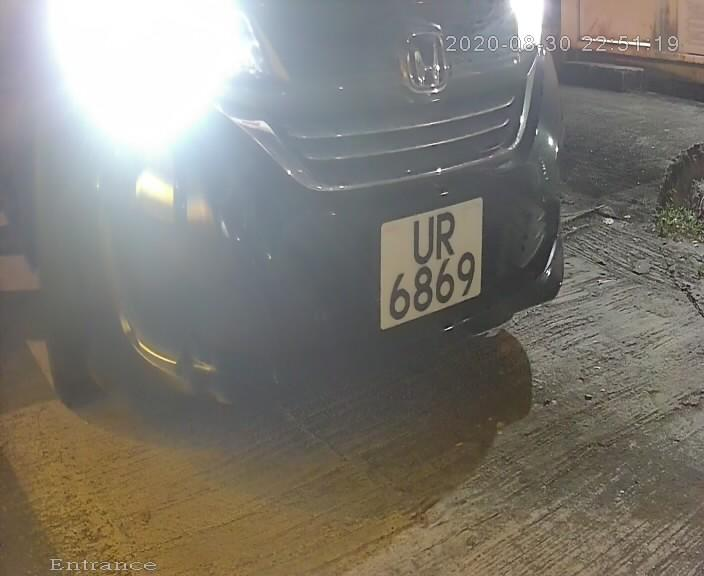License Plate: (375, 188, 488, 340)
